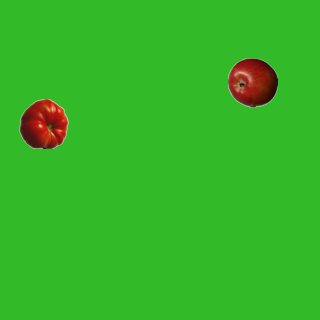Apple Braeburn: (227, 57, 277, 107)
Tomato 3: (18, 98, 68, 148)
